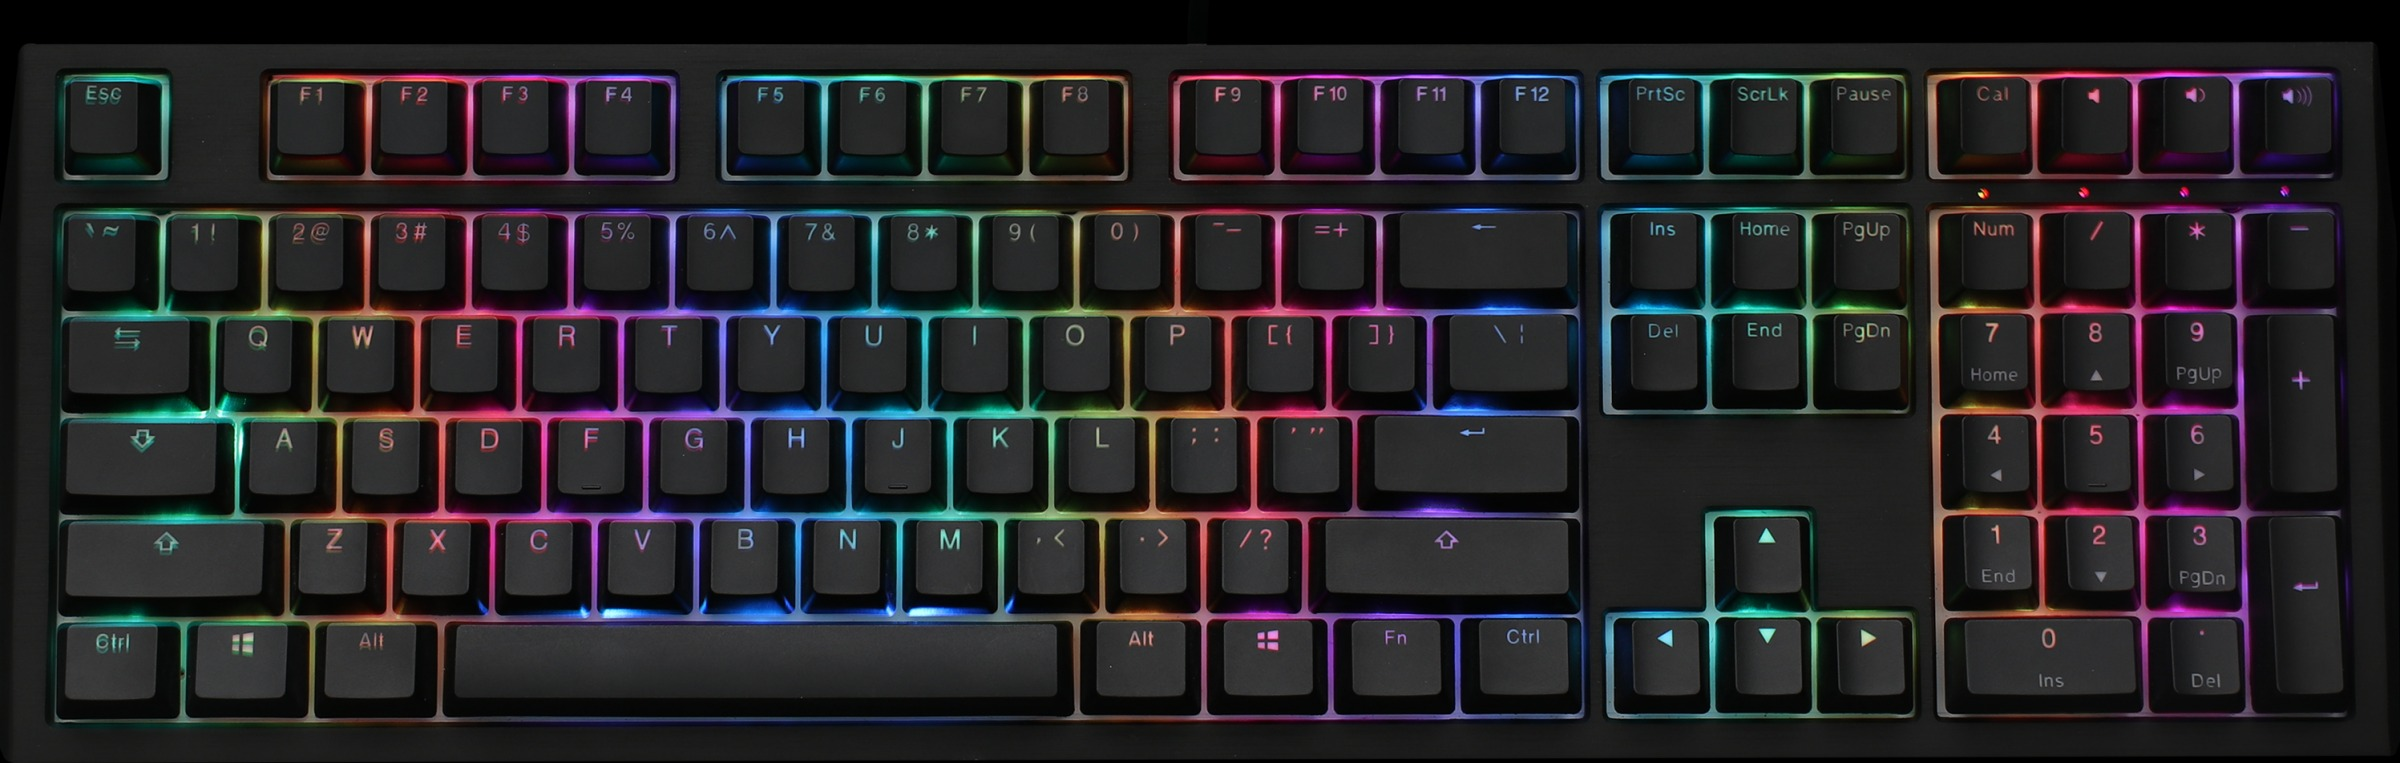keyboard: (34, 57, 2372, 742)
